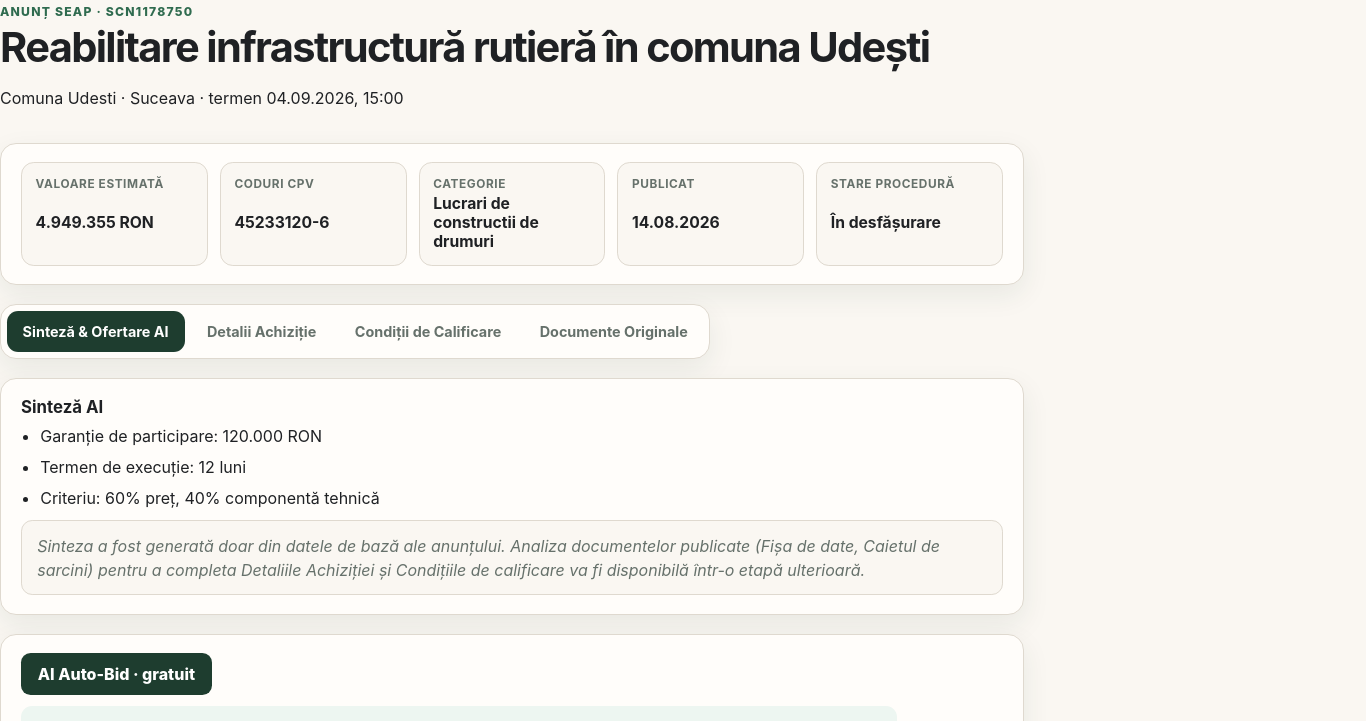
Test: SeapTenderDetailComponent › shows the backend ProblemDetails detail when auto-bid fails (instead of the generic message)
Click the button "AI Auto-Bid · gratuit" at (116, 674), box [21,653,212,695]
(page scrolled)
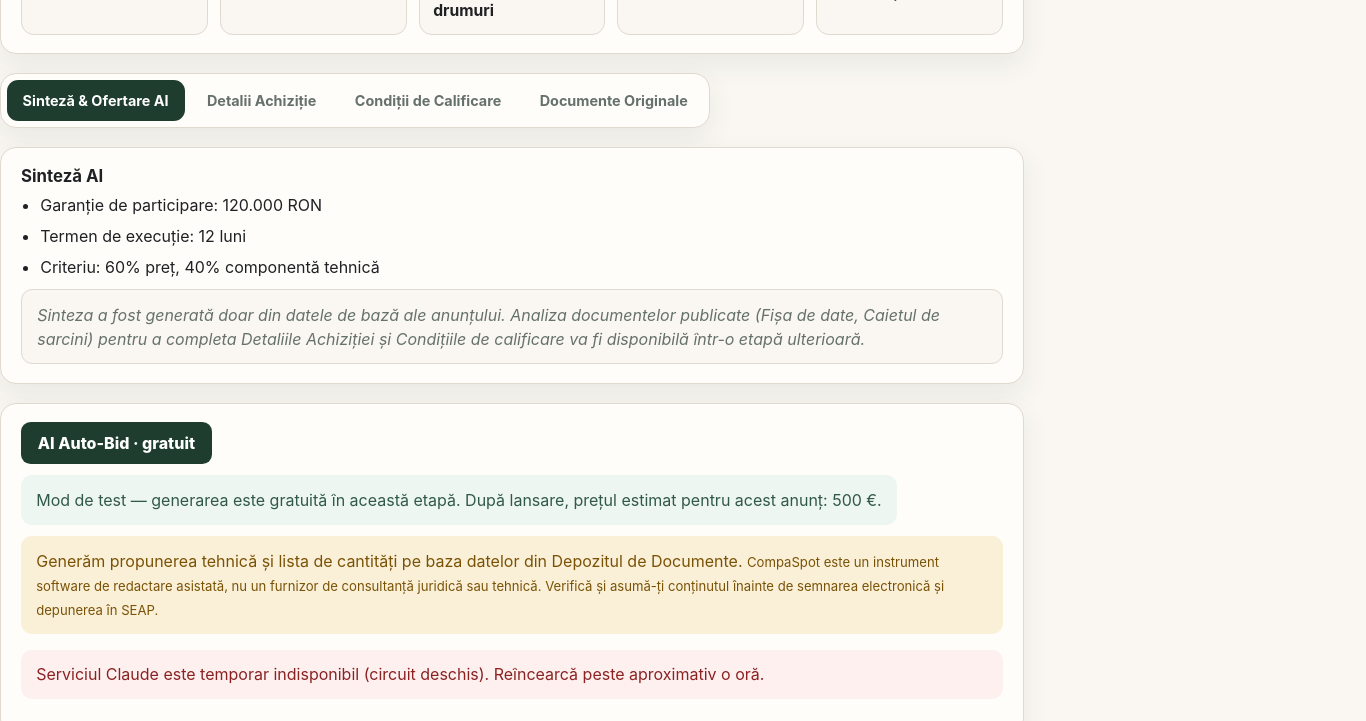
Expected: the message shows "Serviciul Claude este temporar indisponibil", [36,664,764,684]
